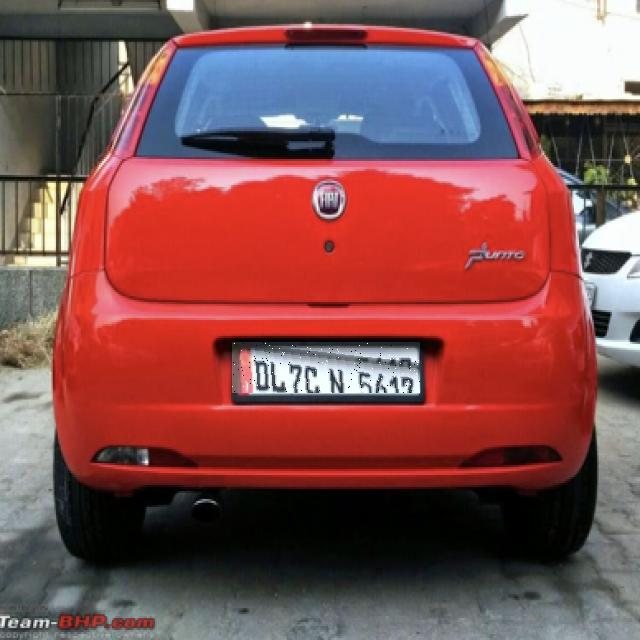Plate: (234, 343, 422, 394)
